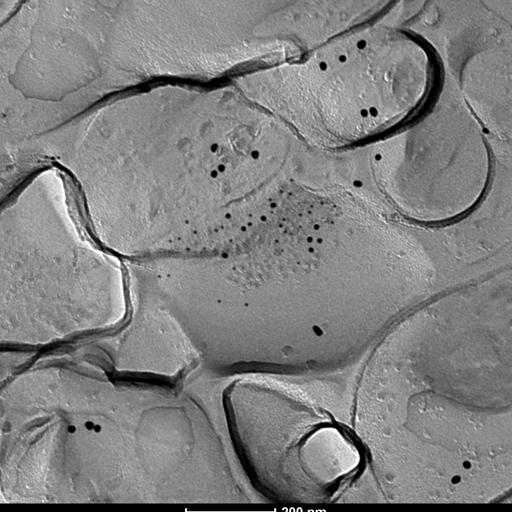1: (312, 223, 320, 231), (316, 237, 324, 245), (306, 236, 314, 244), (306, 247, 314, 255), (259, 214, 267, 222), (268, 201, 276, 209), (240, 225, 248, 233), (221, 252, 229, 260), (246, 220, 254, 228), (223, 212, 231, 220)
6 nm Particle: (231, 265, 237, 271), (295, 261, 301, 267), (274, 238, 280, 244), (282, 229, 288, 235), (277, 223, 283, 229), (329, 219, 335, 225), (281, 216, 287, 222), (307, 209, 313, 215), (309, 203, 315, 209), (332, 203, 338, 209), (319, 200, 325, 206), (287, 191, 293, 197), (280, 248, 286, 254), (297, 224, 303, 230), (298, 213, 304, 219), (288, 232, 294, 238), (268, 210, 274, 216), (288, 177, 294, 183), (278, 189, 284, 195), (267, 197, 273, 203), (243, 302, 249, 308), (247, 213, 253, 219), (227, 238, 233, 244), (201, 245, 207, 251), (184, 246, 190, 252), (219, 225, 225, 231), (213, 228, 219, 234), (192, 229, 198, 235), (176, 236, 182, 242), (167, 238, 173, 244), (183, 219, 189, 225)
